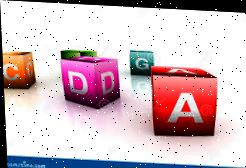cube: (150, 64, 218, 138), (61, 55, 120, 110), (2, 49, 35, 92)
